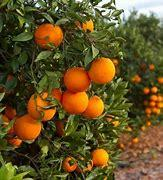orange: (12, 116, 54, 148), (62, 92, 109, 118), (90, 56, 121, 88), (32, 16, 62, 48), (24, 90, 57, 117), (85, 145, 112, 168), (65, 67, 89, 88)
